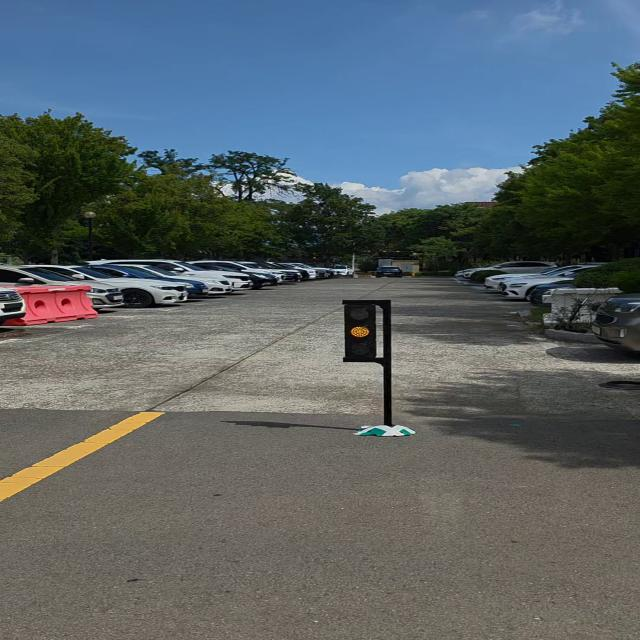yellow: (344, 297, 382, 365)
